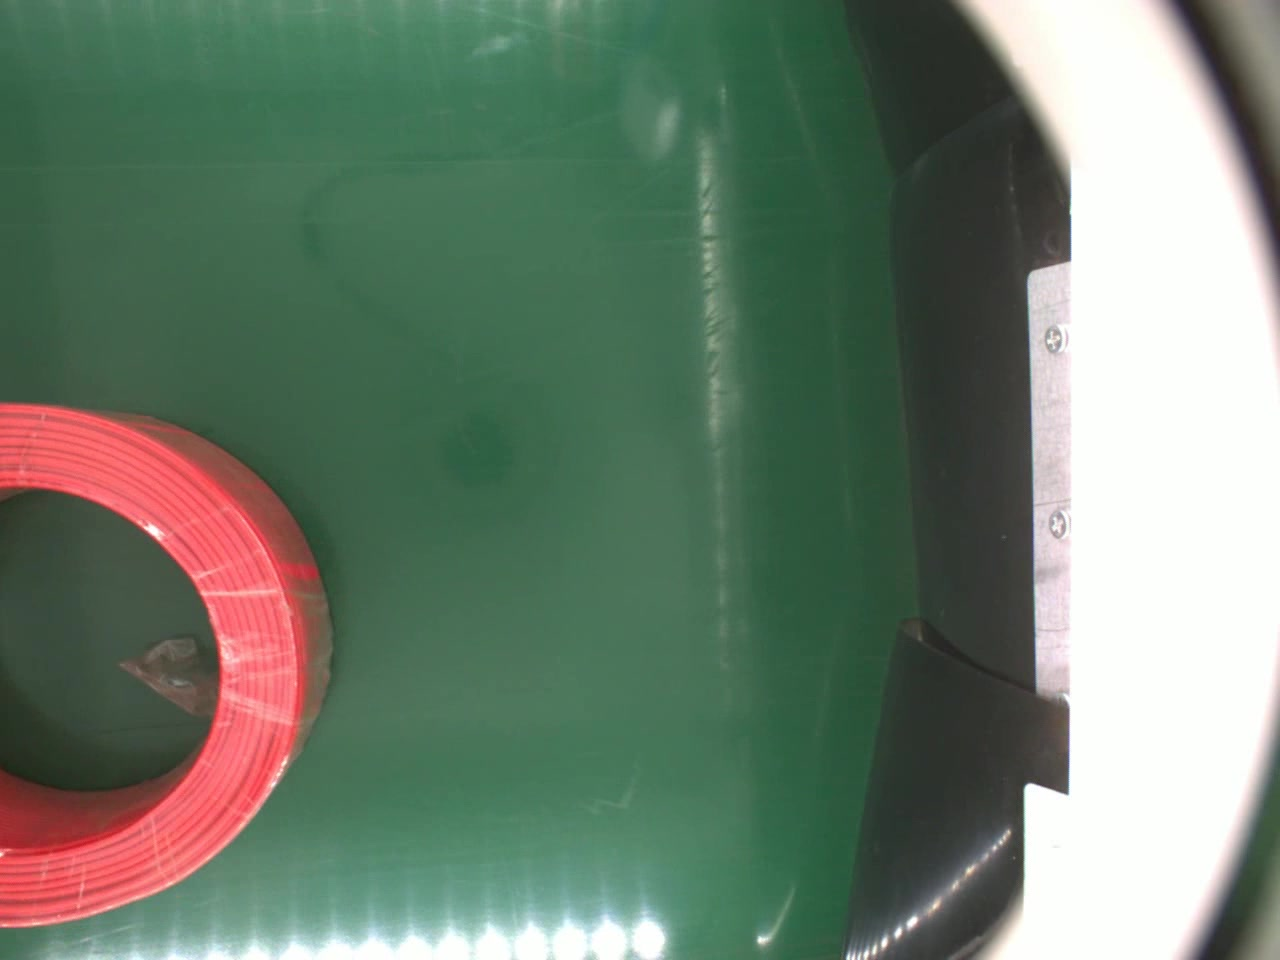red: (0, 398, 337, 933)
